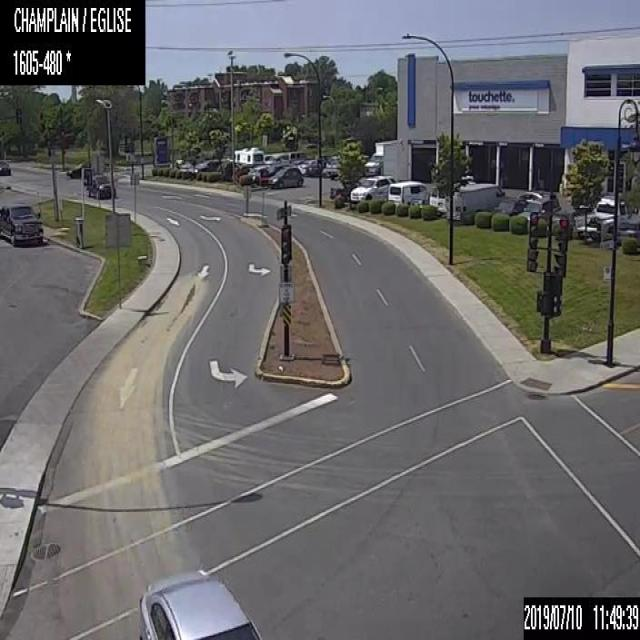vehicle: (136, 569, 263, 639), (573, 196, 627, 239), (446, 182, 504, 218), (0, 201, 43, 246), (429, 174, 475, 214), (364, 139, 396, 176), (350, 174, 395, 200), (516, 188, 560, 211), (388, 182, 430, 204), (516, 198, 552, 219), (88, 172, 116, 198), (268, 166, 302, 187), (330, 180, 360, 200), (617, 212, 639, 239), (495, 198, 528, 216), (234, 146, 263, 163), (260, 164, 282, 185), (247, 163, 270, 183), (551, 207, 575, 225), (65, 161, 90, 177), (194, 158, 222, 172), (217, 160, 238, 178), (278, 151, 304, 165), (308, 158, 326, 175), (409, 190, 430, 204), (297, 158, 314, 174), (326, 154, 339, 168), (0, 158, 11, 174), (263, 154, 280, 164), (290, 158, 303, 166)
